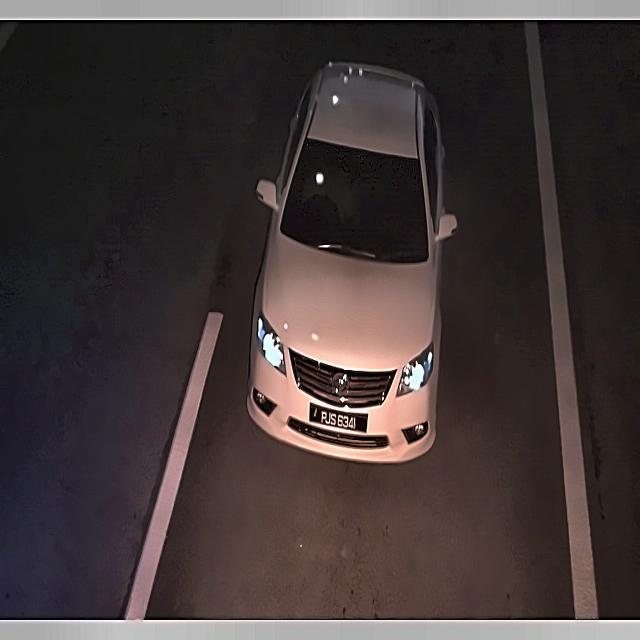car: (304, 391, 372, 441)
